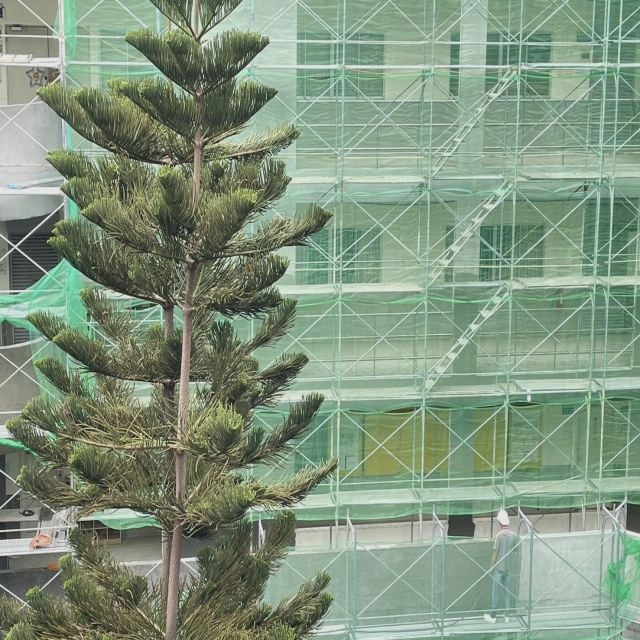Con_Casco: (497, 510, 509, 526)
Sin_Chaleco: (498, 529, 514, 571)
